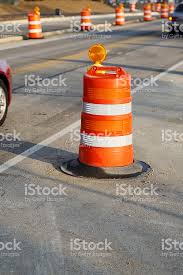barrel: (76, 68, 134, 163)
